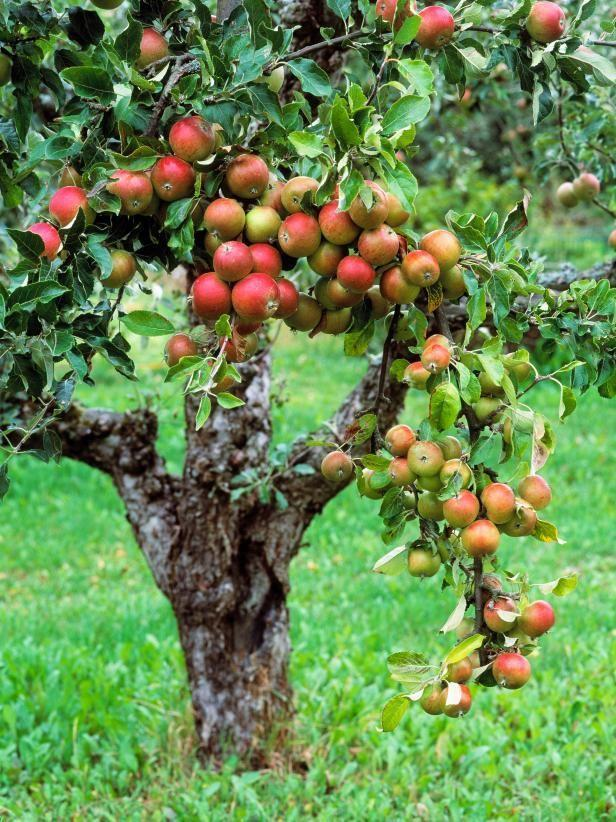apple: (225, 271, 282, 321), (166, 114, 217, 162), (223, 151, 270, 200), (149, 155, 195, 201), (188, 271, 232, 317), (348, 180, 391, 227), (107, 168, 152, 212), (412, 4, 454, 49), (277, 213, 320, 256), (47, 185, 88, 227), (376, 262, 417, 303), (523, 1, 564, 42), (492, 645, 531, 688), (359, 225, 400, 265), (282, 291, 320, 334), (460, 518, 500, 558), (335, 254, 377, 291), (416, 228, 458, 265), (214, 240, 253, 279), (402, 249, 442, 286), (409, 436, 445, 475), (323, 202, 357, 243), (485, 481, 518, 523), (441, 486, 476, 525), (279, 177, 318, 211), (518, 600, 554, 636), (409, 540, 444, 577), (137, 28, 169, 67), (26, 222, 60, 258), (418, 336, 452, 370), (162, 333, 196, 366), (319, 279, 360, 306), (318, 451, 355, 480), (85, 182, 119, 213), (383, 425, 412, 455), (375, 3, 413, 23), (573, 172, 598, 195)
